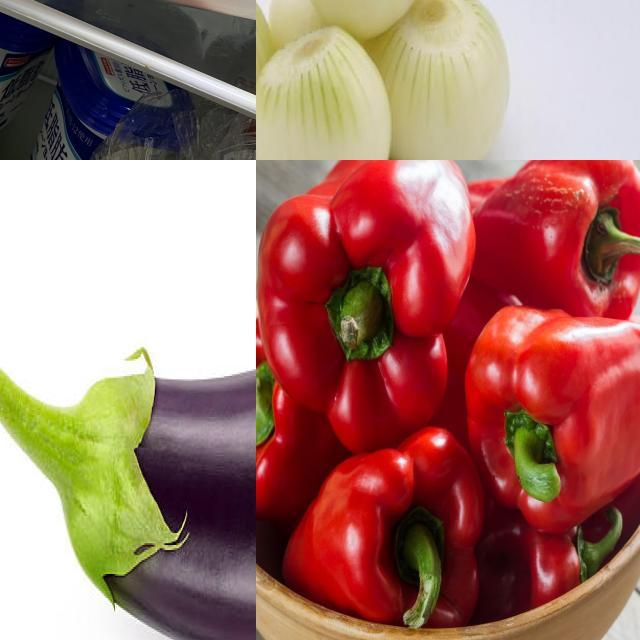bell_pepper: (257, 161, 478, 445), (283, 429, 478, 640), (466, 303, 640, 524), (483, 161, 640, 335)
eggplant: (1, 286, 257, 640)
onion: (357, 1, 513, 161), (257, 25, 398, 161), (308, 1, 428, 42)
